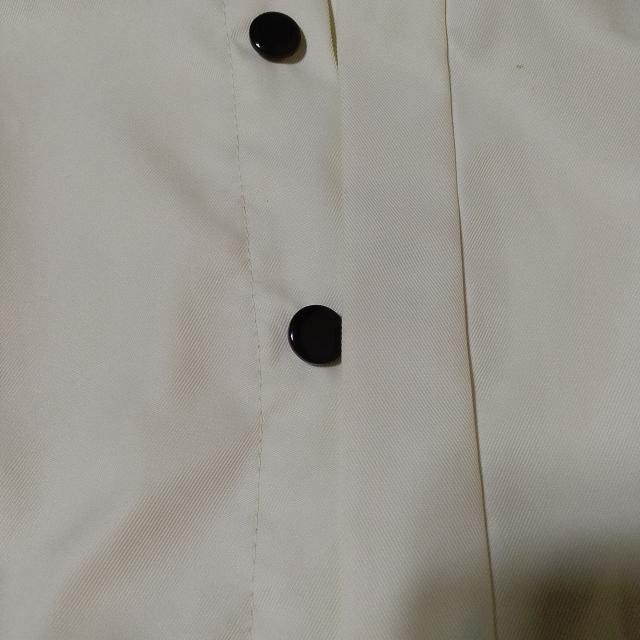education_male_uniform: (0, 0, 456, 545)
